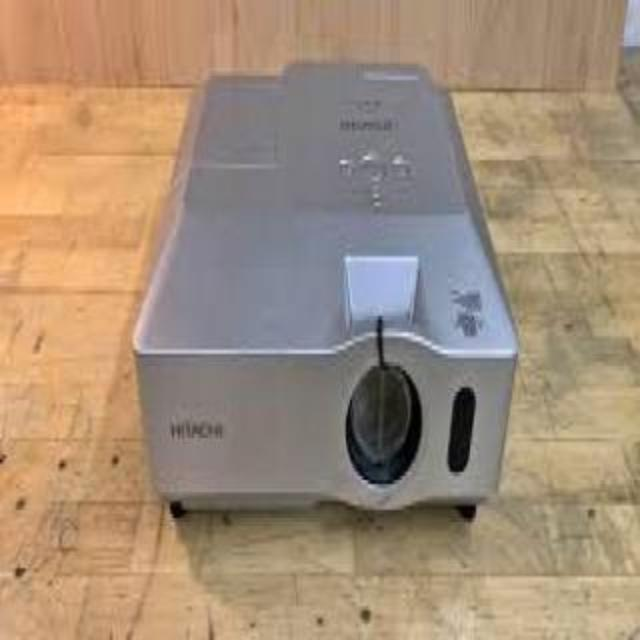Projector: (132, 62, 518, 528)
